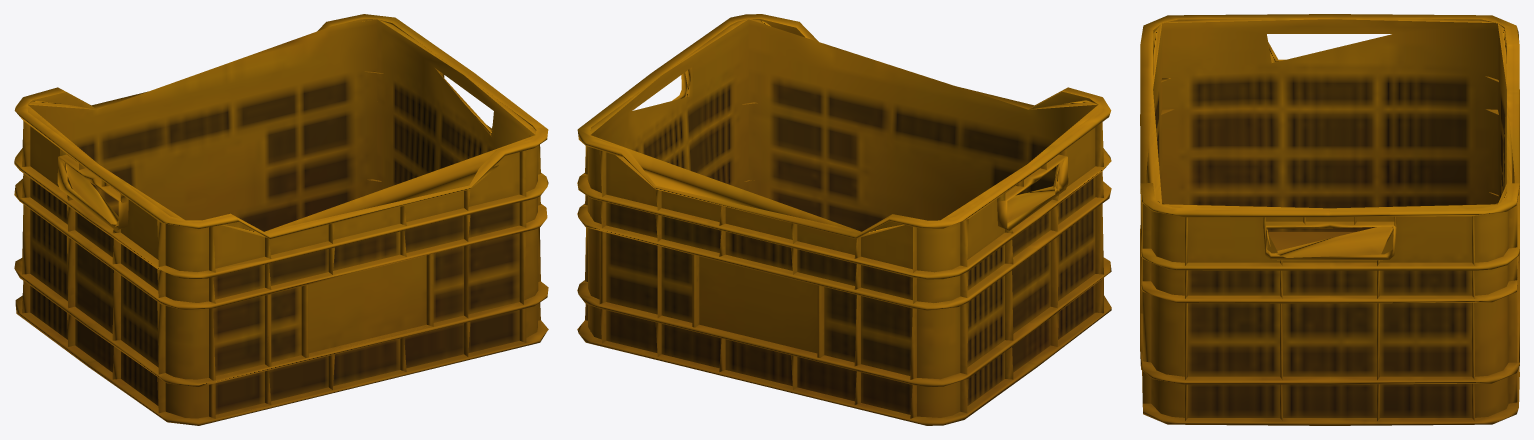
Rendered from plastic_crate_02.glb.
3 views of the same model, side by side, from view 1: azimuth 30°, elevation 25°; view 2: azimuth 150°, elevation 25°; view 3: azimuth 270°, elevation 25° (orthographic). The views are drawn at different scales.
Parts seen in each view (by area): view 1: plastic_crate_02, plastic_crate_02_lo; view 2: plastic_crate_02, plastic_crate_02_lo; view 3: plastic_crate_02, plastic_crate_02_lo.
Part boxes in pixels (x1=…): plastic_crate_02: x1=14, y1=14, x2=548, y2=425; plastic_crate_02_lo: x1=27, y1=19, x2=535, y2=415; plastic_crate_02: x1=577, y1=14, x2=1111, y2=425; plastic_crate_02_lo: x1=590, y1=19, x2=1110, y2=365; plastic_crate_02: x1=1140, y1=14, x2=1519, y2=425; plastic_crate_02_lo: x1=1143, y1=19, x2=1519, y2=403.
Bounding box in the file's own units: 0.5055 × 0.2541 × 0.4055.
Materials: 1 (1 with a texture image).
